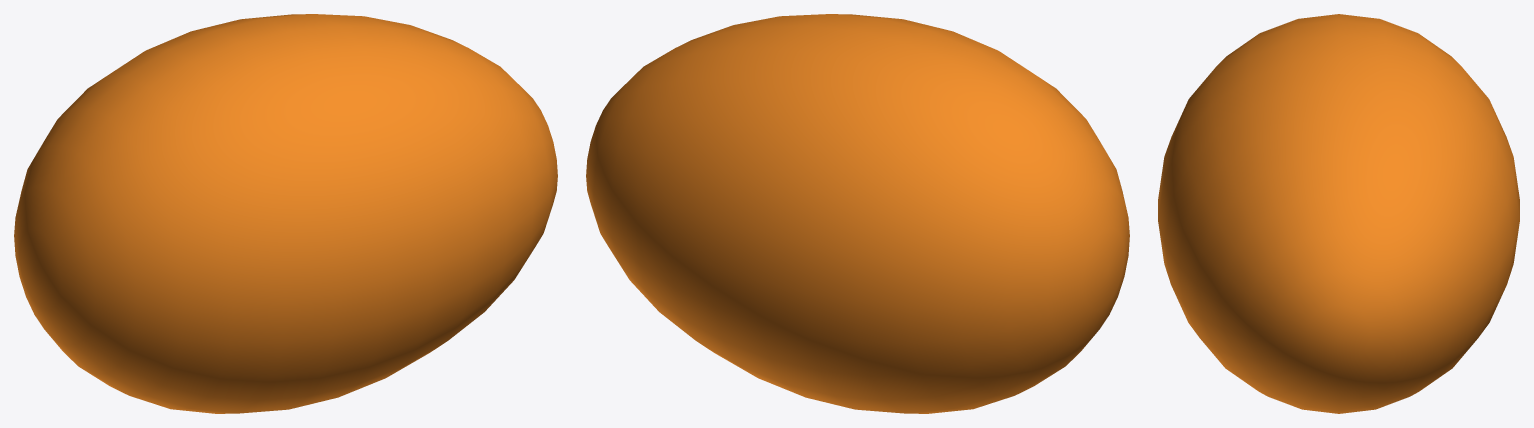
File: Mango.fbx
3 renders of one model, left to right at view 1: azimuth 30°, elevation 25°; view 2: azimuth 150°, elevation 25°; view 3: azimuth 270°, elevation 25°, orthographic. The views are drawn at different scales.
Visible parts, largest first — view 1: Mango; view 2: Mango; view 3: Mango.
Part boxes in pixels (bbox=[...]): Mango: bbox=[14, 14, 557, 413]; Mango: bbox=[586, 14, 1129, 413]; Mango: bbox=[1158, 14, 1519, 413].
Bounding box in the file's own units: 0.12 × 0.08 × 0.08.
